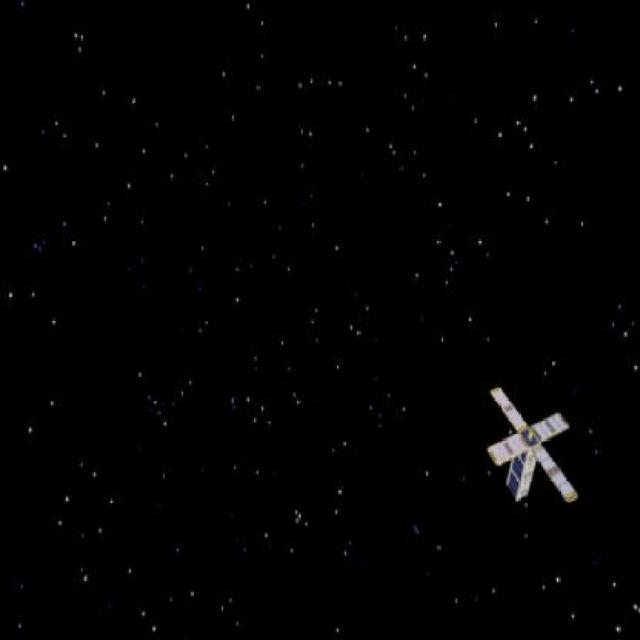medium_debris: (483, 382, 590, 510)
